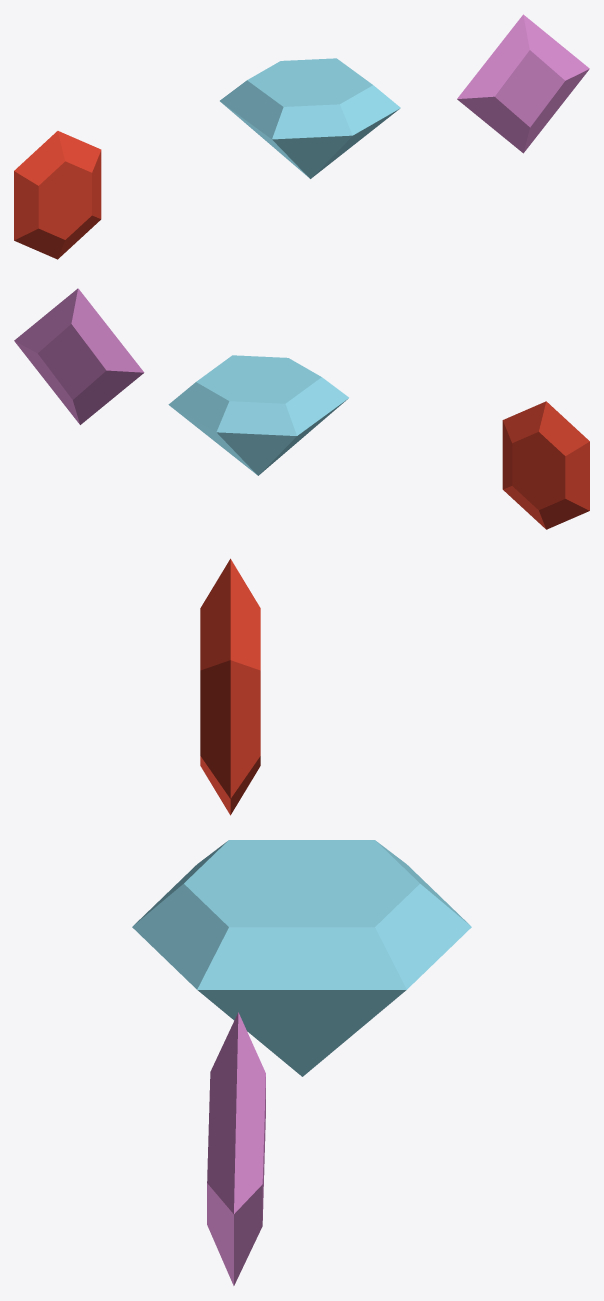
File: Gemas.fbx
3 renders of one model, top to bottom at view 1: azimuth 30°, elevation 25°; view 2: azimuth 150°, elevation 25°; view 3: azimuth 270°, elevation 25°, orthographic. The views are drawn at different scales.
Visible parts, largest first — view 1: Cube.002, Cube.003, Cube.001; view 2: Cube.002, Cube.003, Cube.001; view 3: Cube.002, Cube.001, Cube.003.
Boxes of the visible parts, bbox=[...] form: Cube.002: bbox=[220, 58, 400, 178]; Cube.003: bbox=[457, 14, 589, 153]; Cube.001: bbox=[14, 131, 101, 259]; Cube.002: bbox=[168, 355, 348, 475]; Cube.003: bbox=[14, 288, 144, 424]; Cube.001: bbox=[502, 401, 589, 529]; Cube.002: bbox=[132, 840, 471, 1076]; Cube.001: bbox=[200, 558, 260, 815]; Cube.003: bbox=[207, 1012, 265, 1285].
Size of the model in its own units: 1650 by 378 by 422.
